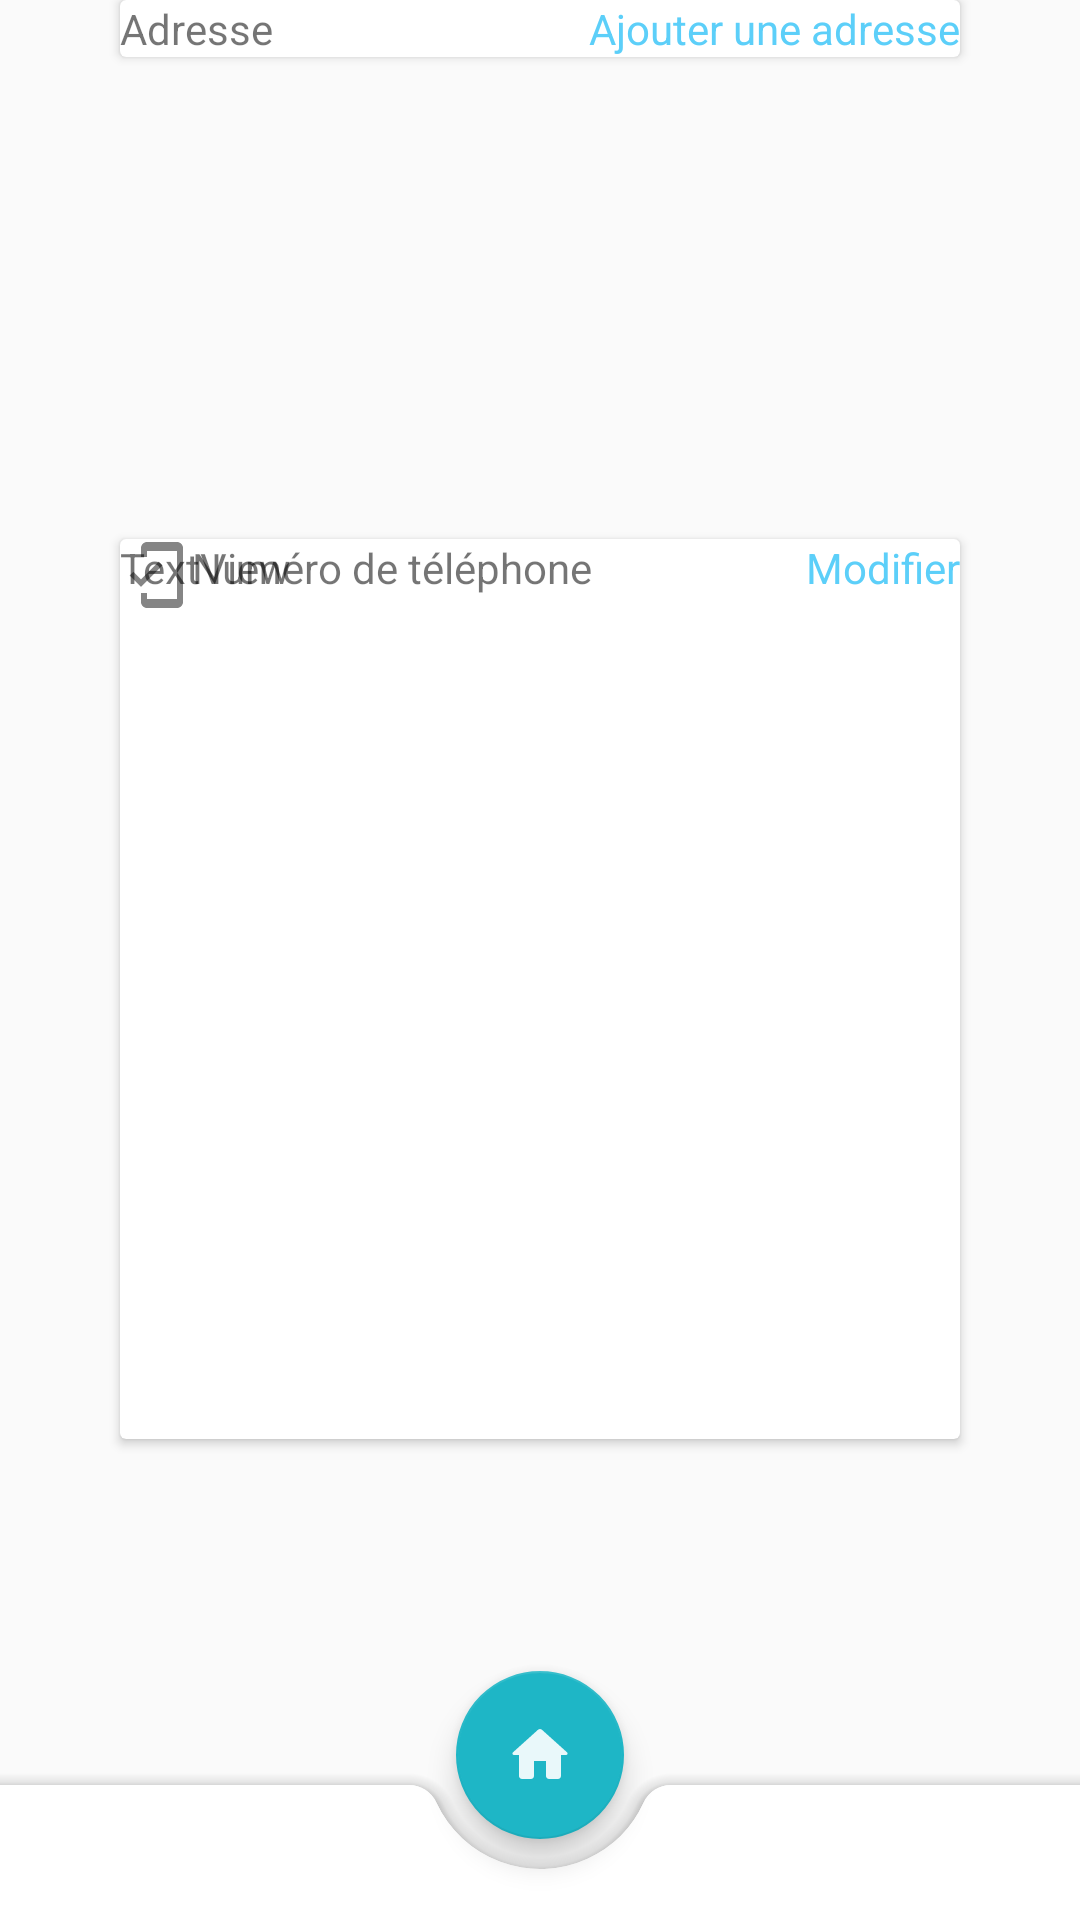

Named icons in this screenshot (1080w x 1920h) and their bounding boxes, bbox(x1, y1, x2, y2):
home: bbox(456, 1701, 624, 1869)
